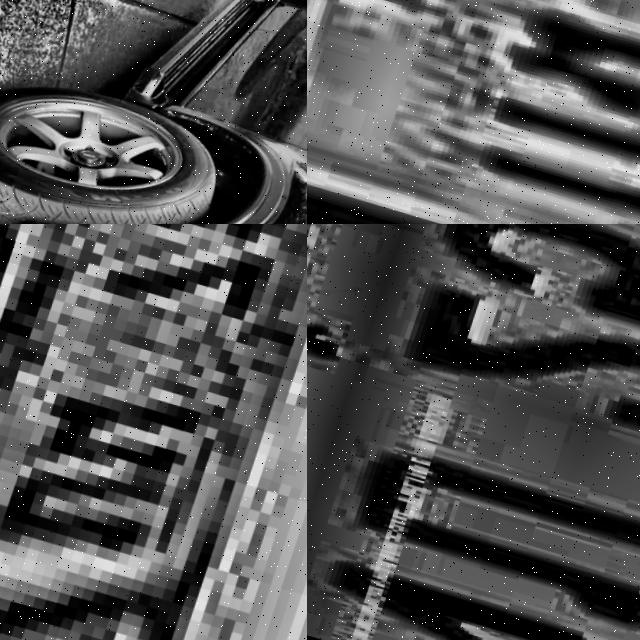license-plate: (307, 224, 640, 640), (0, 224, 307, 640), (307, 0, 640, 224)
